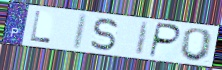I: (71, 12, 90, 51), (134, 21, 151, 57)
L: (29, 10, 52, 45)
O: (178, 27, 215, 63)
P: (147, 22, 182, 59)
S: (89, 17, 120, 53)
